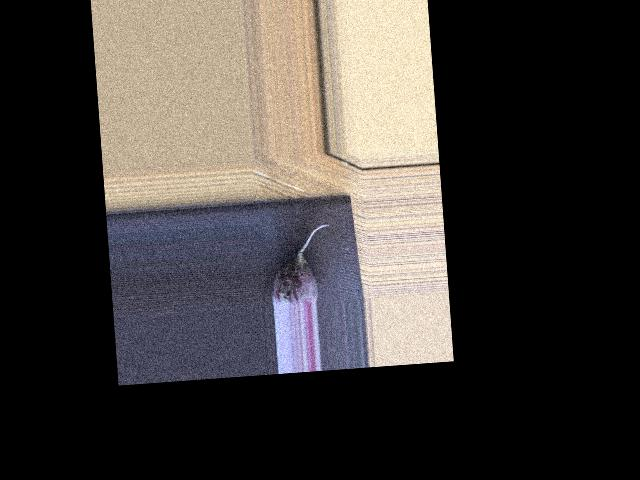beet: (266, 223, 333, 305)
